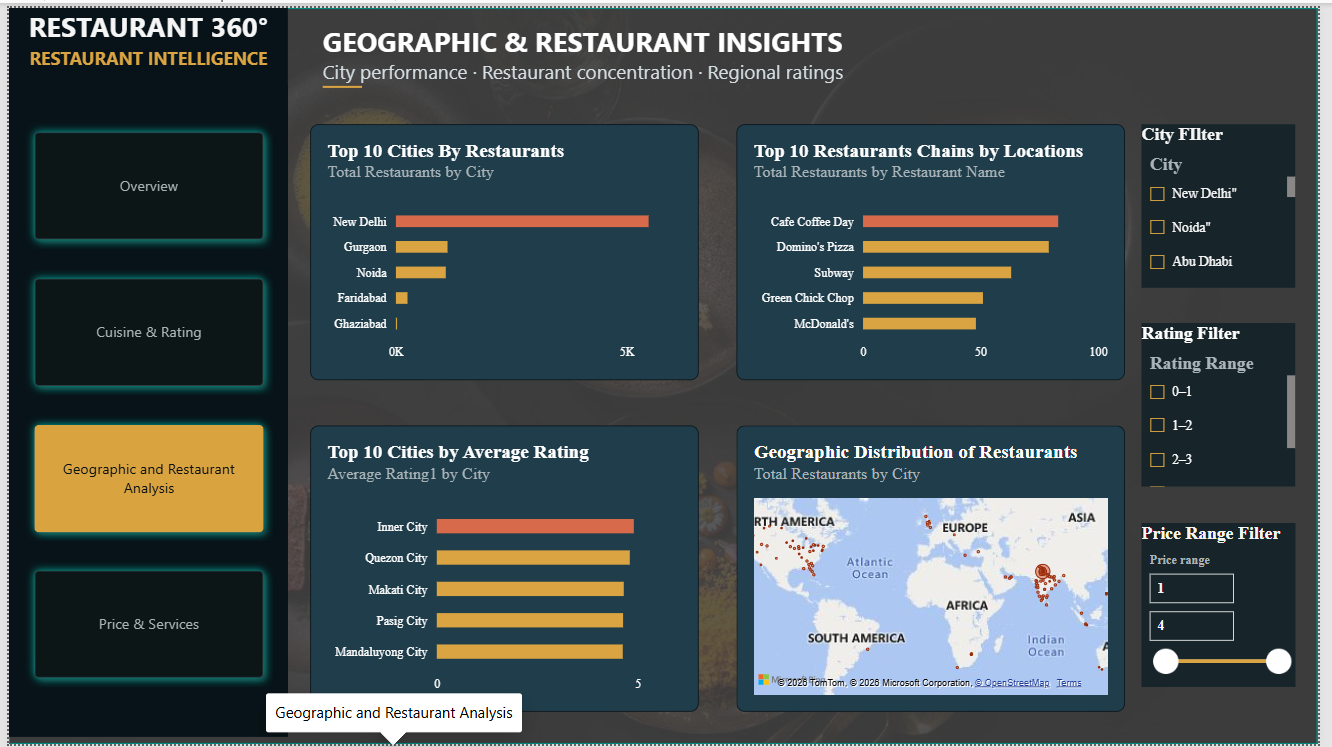

What the dashboard file says about the page in this screenshot:
{"tool":"powerbi","page":{"name":"Geographic and Restaurant  Analysis","canvas":[1280,720],"ordinal":2},"visuals":[{"type":"shape","box":[0,0,1280,720],"z":0},{"type":"clusteredBarChart","title":"Top 10 Cities By Restaurants","fields":{"Category":["Restaurantdata.City"],"Y":["Restaurantdata.Total Restaurants"]},"box":[295,113.3,380,250],"z":1000},{"type":"clusteredBarChart","title":"Top 10 Cities by Average Rating","fields":{"Category":["Restaurantdata.City"],"Y":["Restaurantdata.Average Rating1"]},"box":[295,408.3,380,280],"z":2000},{"type":"clusteredBarChart","title":"Top 10 Restaurants Chains by Locations","fields":{"Category":["Restaurantdata.Restaurant Name"],"Y":["Restaurantdata.Total Restaurants"]},"box":[711.7,113.3,380,250],"z":3000},{"type":"map","title":"Geographic Distribution of Restaurants","fields":{"Category":["Restaurantdata.City"],"Size":["Restaurantdata.Total Restaurants"]},"box":[711.7,408.3,380,280],"z":4000},{"type":"shape","title":"RESTAURANT 360°","box":[0,0,272.7,712.9],"z":5000},{"type":"pageNavigator","box":[15.9,112.5,242.9,555.7],"z":6000},{"type":"textbox","box":[307.1,14.3,674.3,70],"z":7000},{"type":"shape","box":[307.5,71.2,38.8,12.5],"z":8000},{"type":"slicer","title":"City FIlter","fields":{"Values":["Restaurantdata.City"]},"box":[1108.3,113.3,150,160],"z":9000},{"type":"slicer","title":"Rating Filter","fields":{"Values":["Restaurantdata.Rating Range"]},"box":[1108.3,308.3,150,160],"z":10000},{"type":"slicer","title":"Price Range Filter","fields":{"Values":["Restaurantdata.Price range"]},"box":[1108.3,503.3,150,160],"z":11000}]}

Visuals, with their boxes in screenshot pixels (x1, y1, x2, y2), scaled from the page's 1280x720 canvas onto the 1332x747 screenshot:
shape: [0, 0, 1331, 746]
"Top 10 Cities By Restaurants" clusteredBarChart: [307, 118, 702, 377]
"Top 10 Cities by Average Rating" clusteredBarChart: [307, 424, 702, 714]
"Top 10 Restaurants Chains by Locations" clusteredBarChart: [741, 118, 1136, 377]
"Geographic Distribution of Restaurants" map: [741, 424, 1136, 714]
"RESTAURANT 360°" shape: [0, 0, 284, 740]
pageNavigator: [17, 117, 269, 693]
textbox: [320, 15, 1021, 87]
shape: [320, 74, 360, 87]
"City FIlter" slicer: [1153, 118, 1309, 284]
"Rating Filter" slicer: [1153, 320, 1309, 486]
"Price Range Filter" slicer: [1153, 522, 1309, 688]
